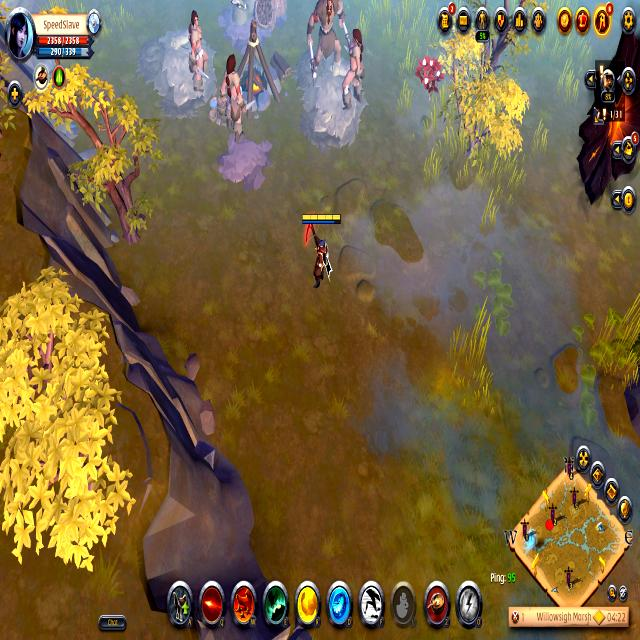hide: (414, 49, 444, 104)
ore: (304, 0, 350, 98), (220, 51, 253, 160), (340, 22, 367, 121), (188, 9, 212, 100)
red: (296, 204, 344, 296)
